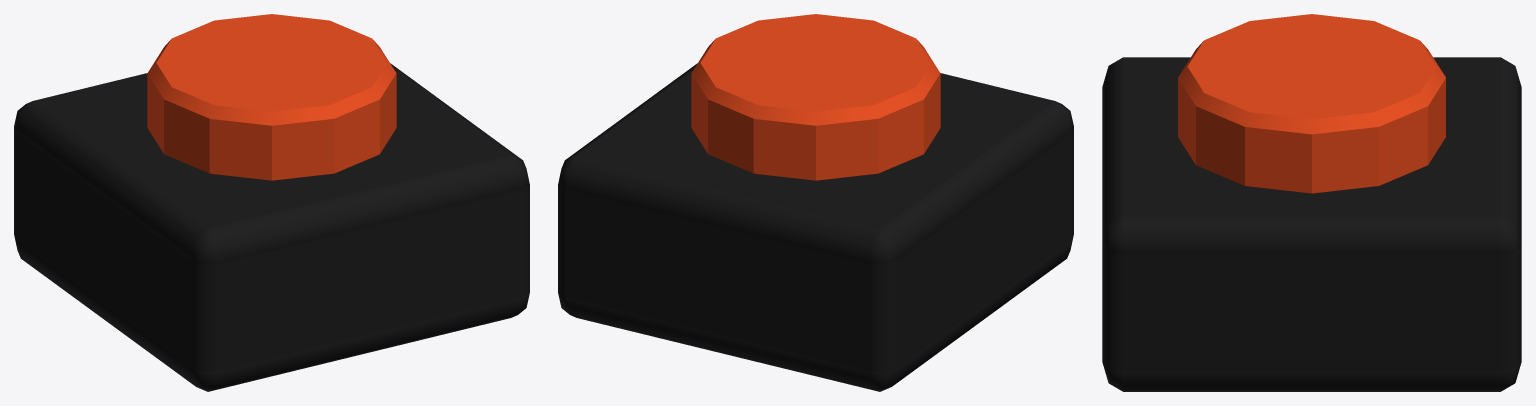
The model's file is s3d_button1.fbx.
3 renders of one model, left to right at view 1: azimuth 30°, elevation 25°; view 2: azimuth 150°, elevation 25°; view 3: azimuth 270°, elevation 25°, orthographic. The views are drawn at different scales.
Visible parts, largest first — view 1: s3d_button1; view 2: s3d_button1; view 3: s3d_button1.
Boxes of the visible parts, x1=… form: s3d_button1: x1=14, y1=14, x2=529, y2=391; s3d_button1: x1=558, y1=14, x2=1073, y2=391; s3d_button1: x1=1102, y1=14, x2=1521, y2=391.
Size of the model in its own units: 12.8 by 8.28 by 12.8.
